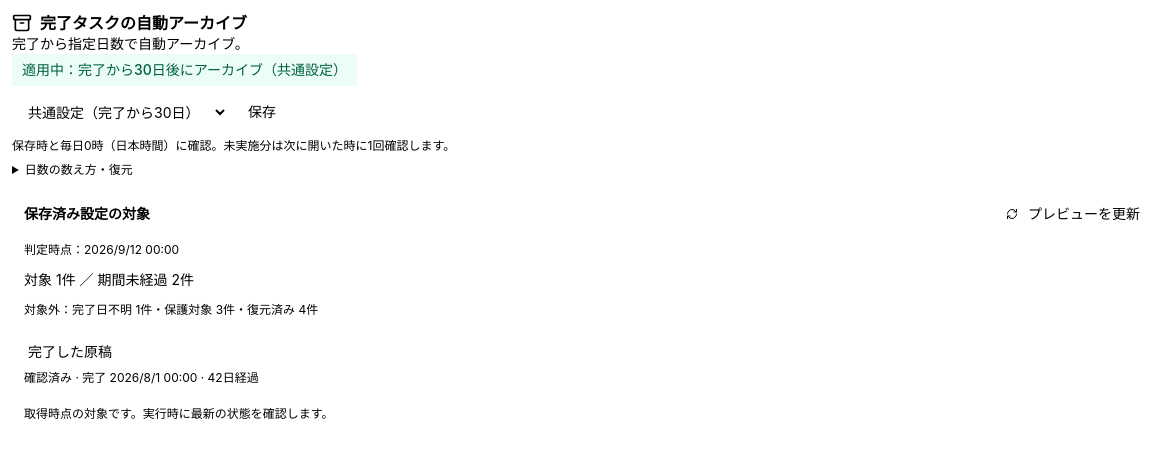
Test: AutoArchiveSettings server policy › allows a project override and a return to the inherited default through the same API
This screenshot has width=1164, height=464.
Expected: the text "適用中：完了から30日後にアーカイブ（共通設定）" is shown, 12,54 -> 357,86
Expected: the field labelled "完了からの期間" is not shown
Select "このプロジェクトだけ指定" in the dropdown named "日数の設定" at x=120, y=112, box 12,94 -> 228,130
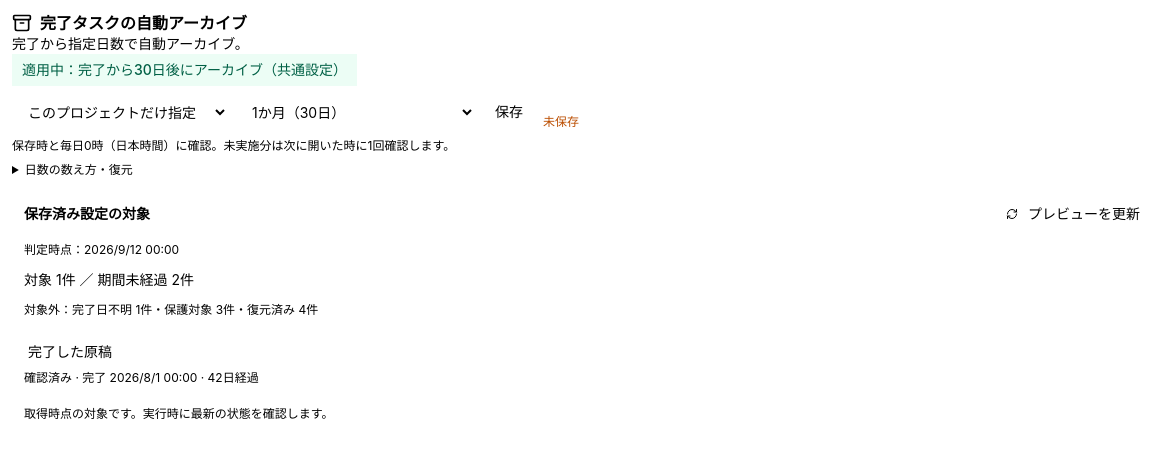
Select "1週間（7日）" in the 2nd dropdown named "完了からの期間" at x=356, y=112, box 236,94 -> 475,130
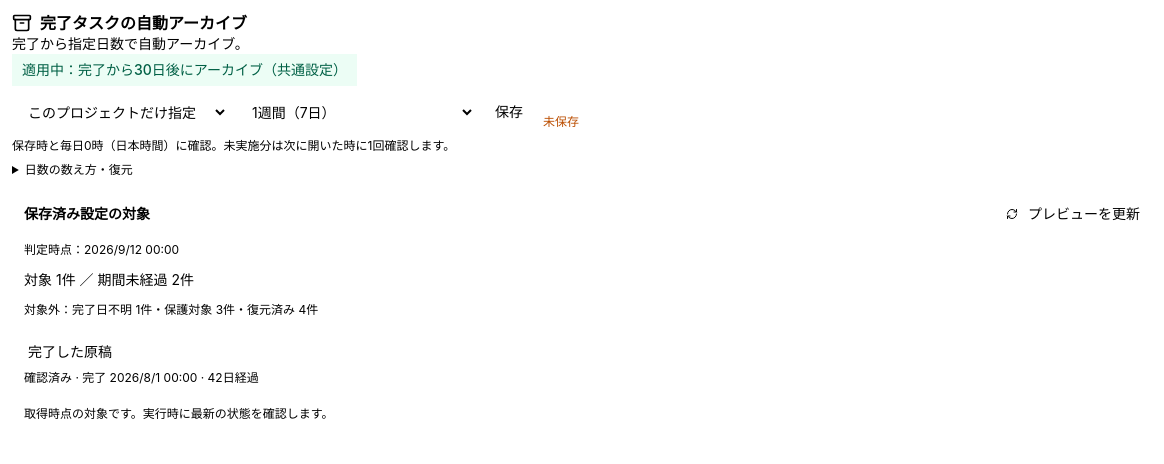
Expected: the button "プレビューを更新" is disabled, 994,198 -> 1152,230
Click the button "保存" at x=509, y=112, box 483,94 -> 535,130
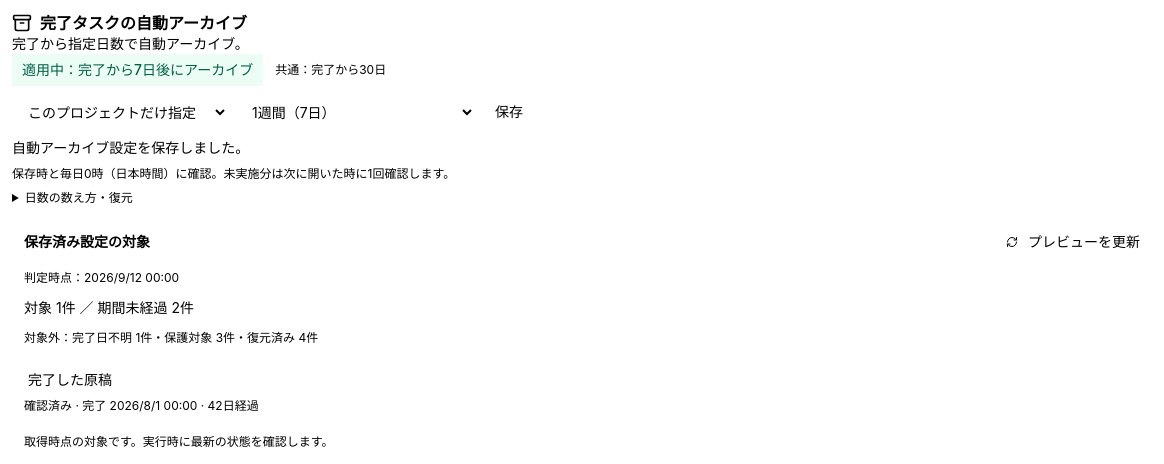
Result: the text "適用中：完了から7日後にアーカイブ" is shown at 12,54 -> 263,86
Select "共通設定（完了から30日）" in the 1st dropdown named "日数の設定" at x=120, y=112, box 12,94 -> 228,130
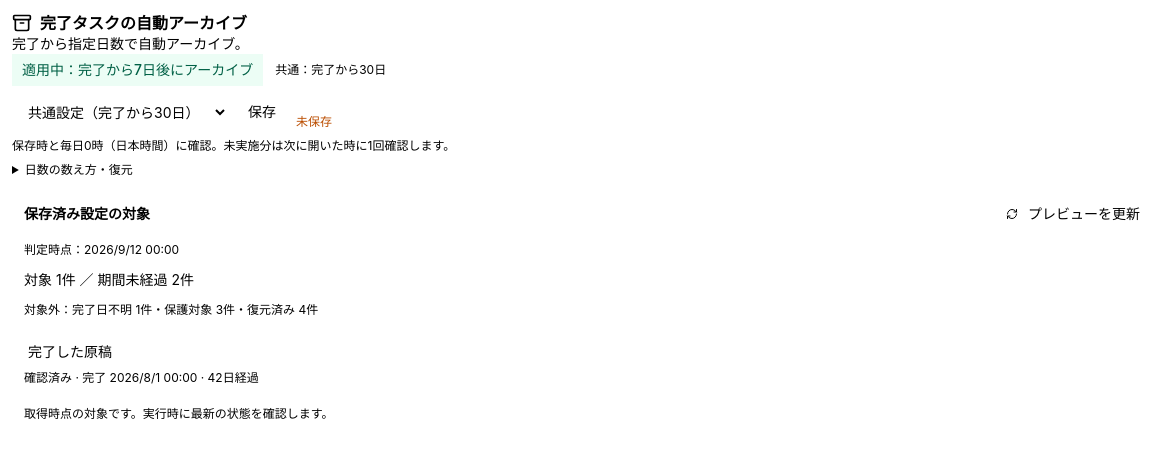
Click the button "保存" at x=262, y=112, box 236,94 -> 288,130
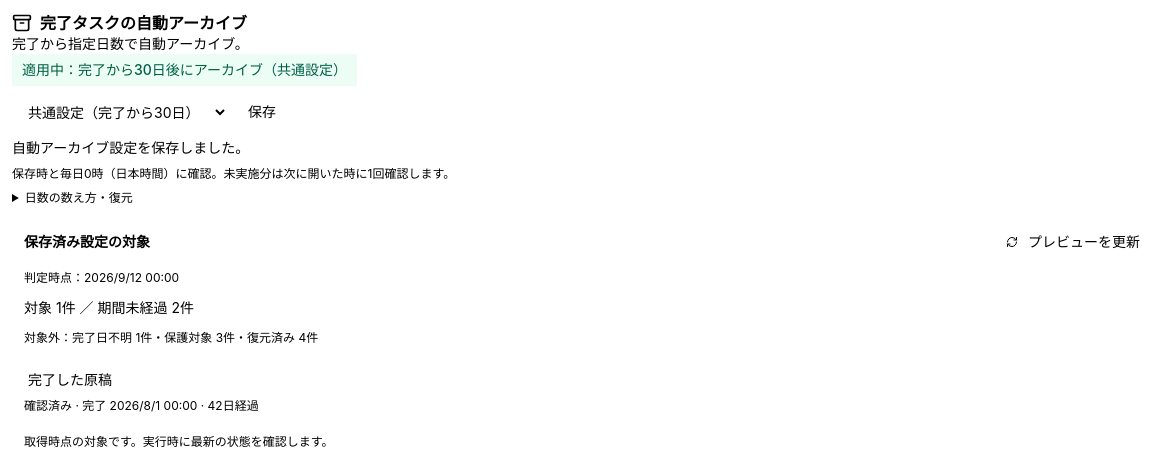
Result: the text "適用中：完了から30日後にアーカイブ（共通設定）" is shown at 12,54 -> 357,86
